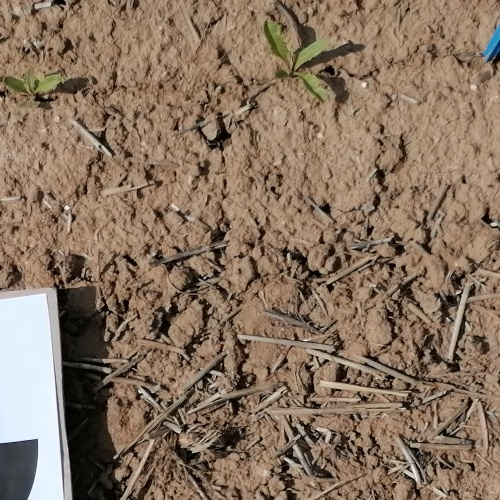beet: (265, 19, 333, 101), (3, 68, 60, 106)
